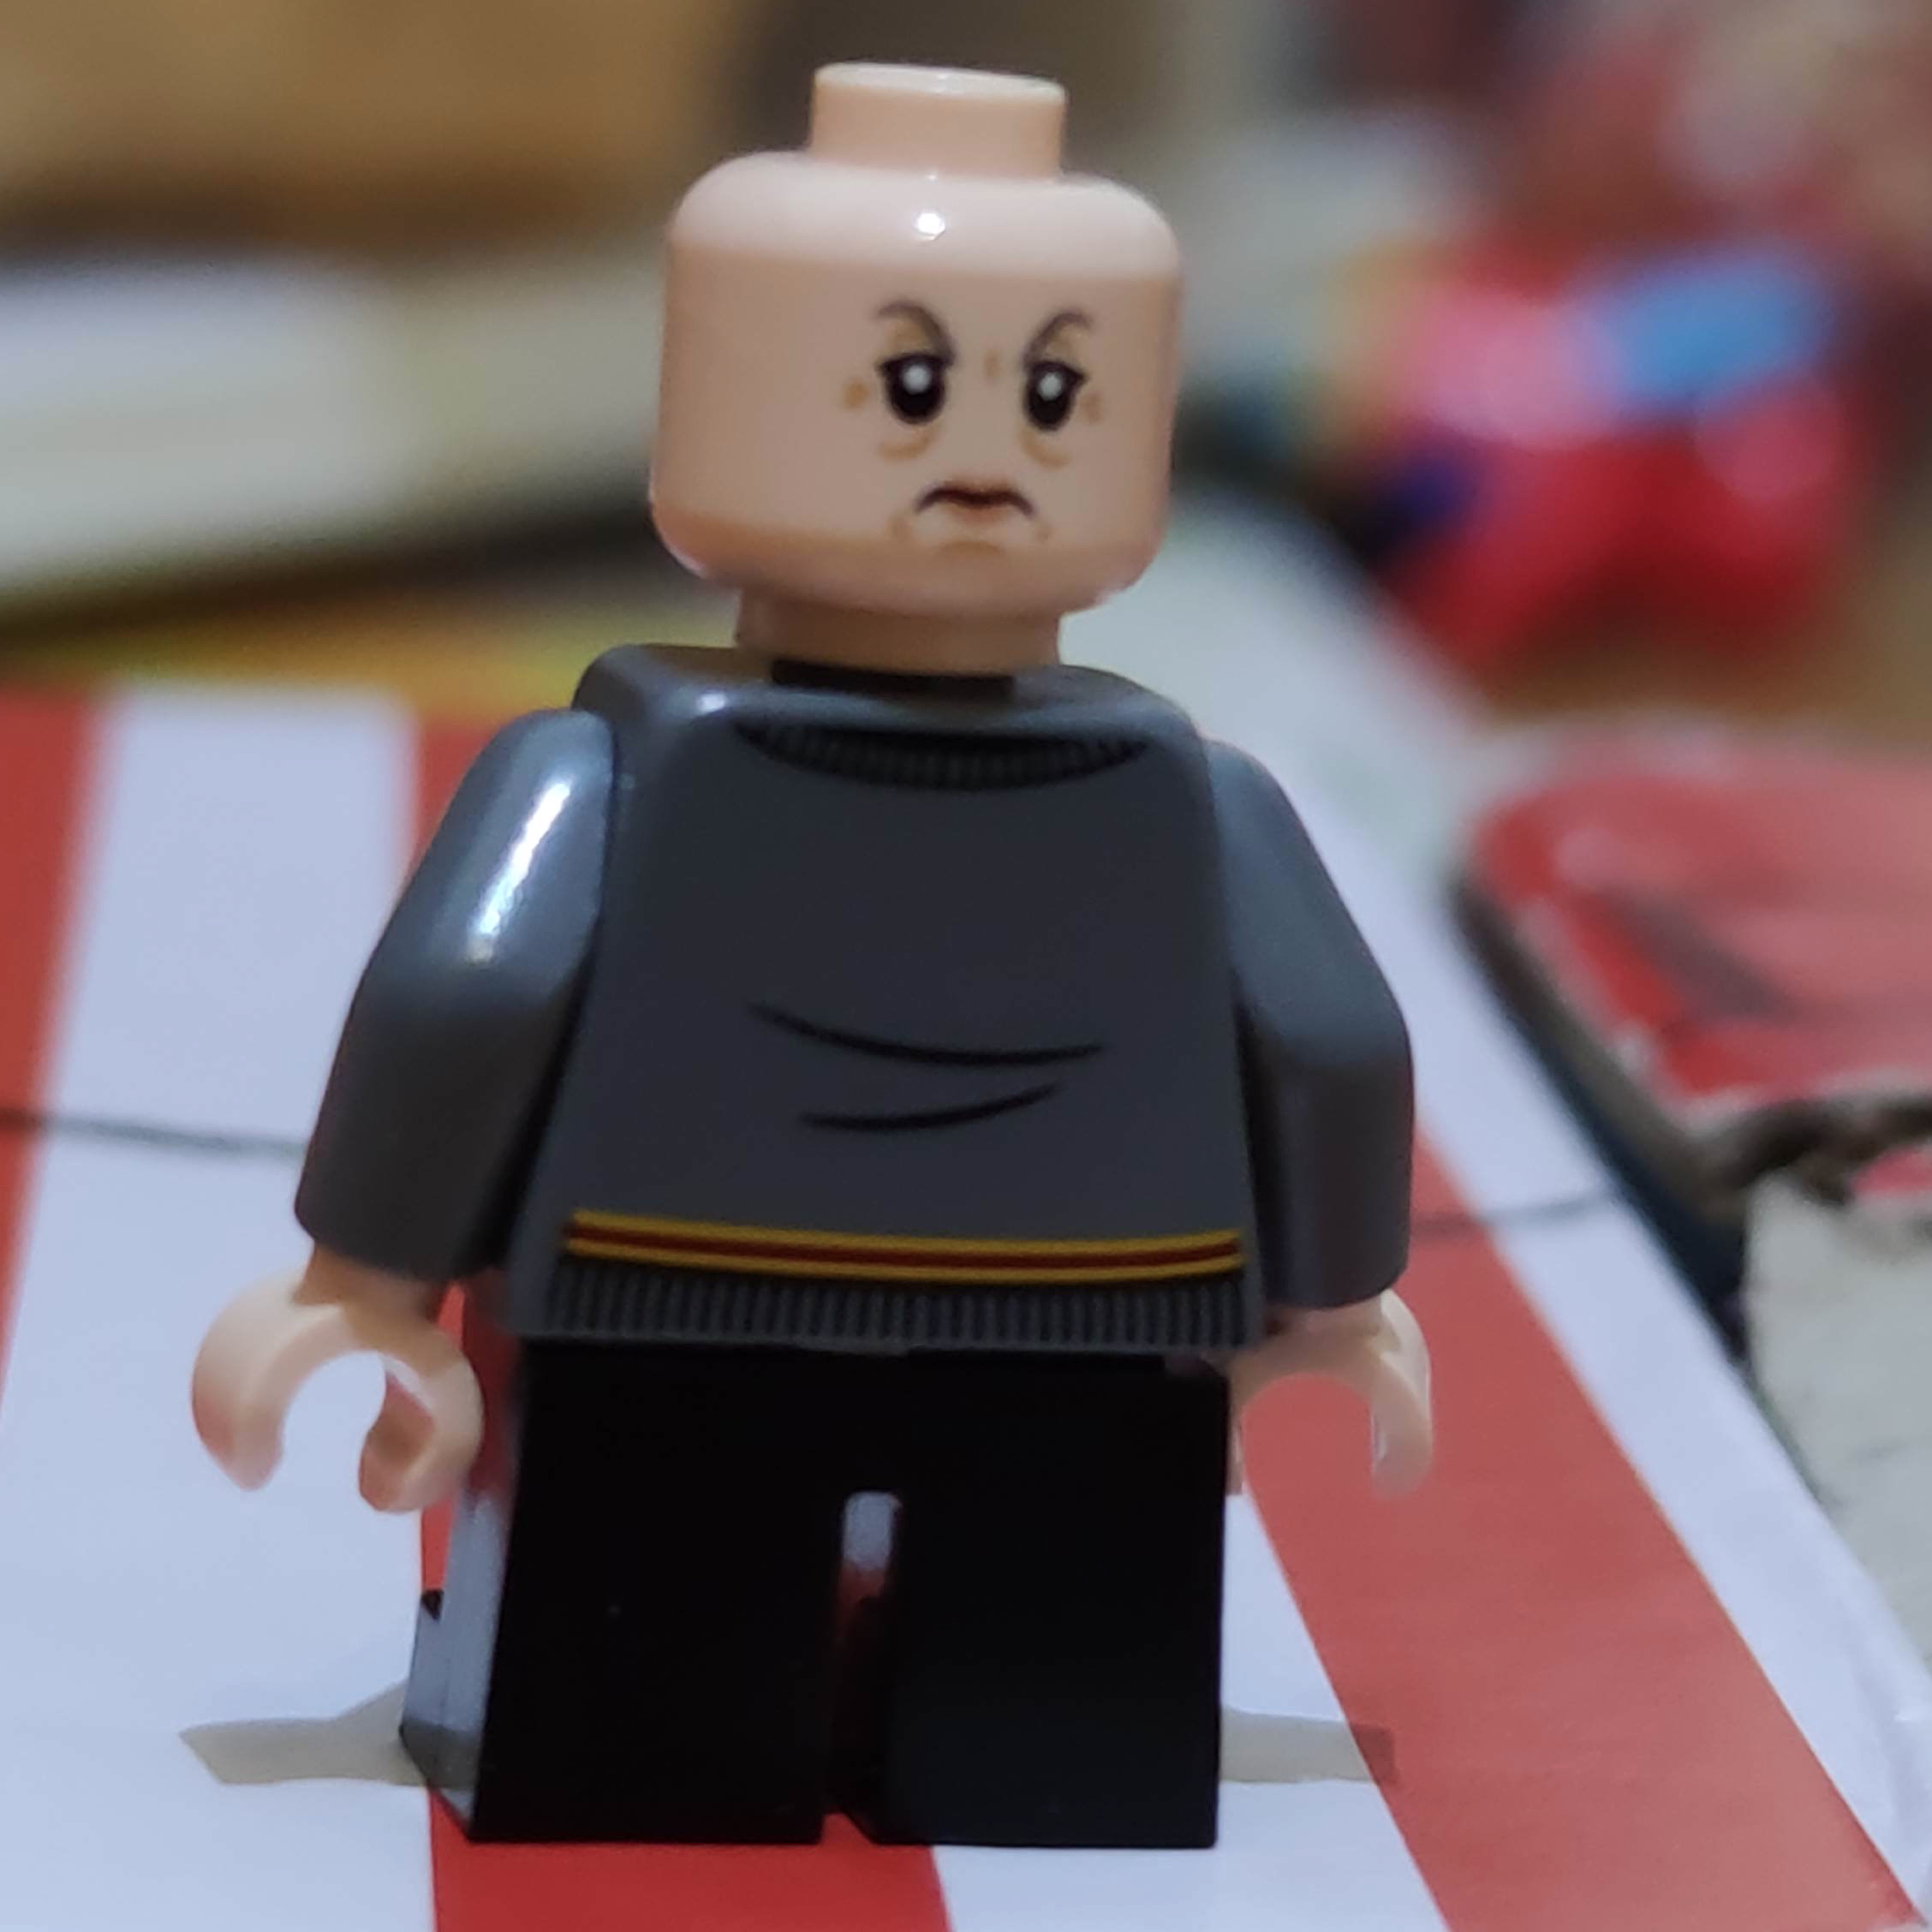lego: (193, 57, 1440, 1854)
